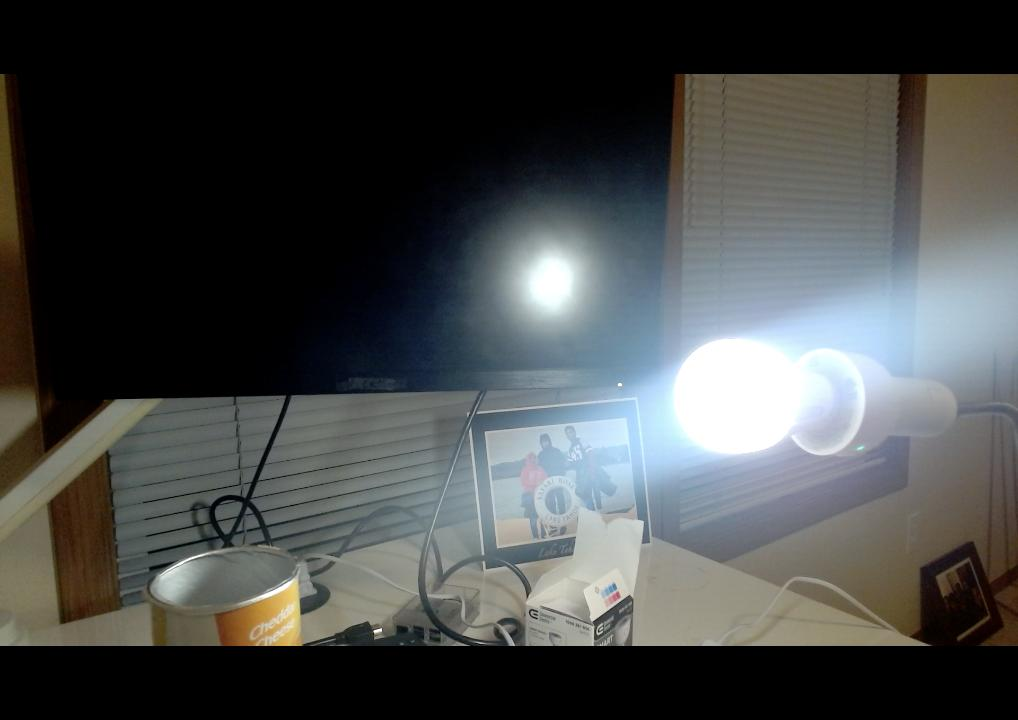TubeLight: (672, 338, 837, 454)
